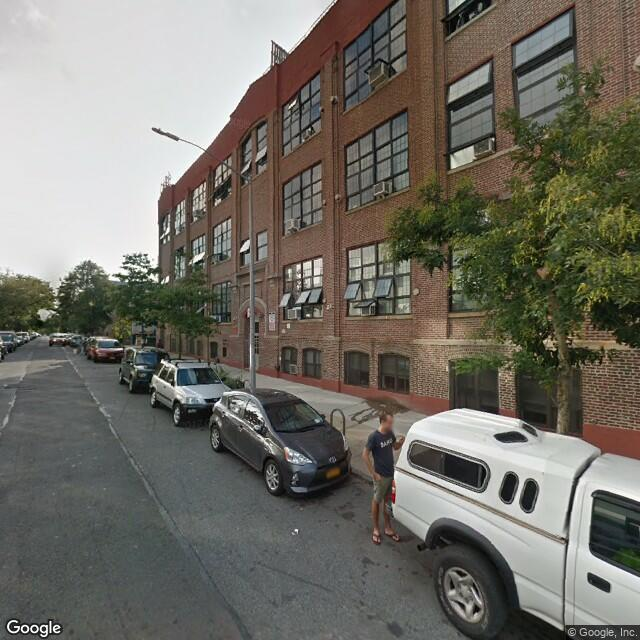litter: (279, 522, 311, 540)
